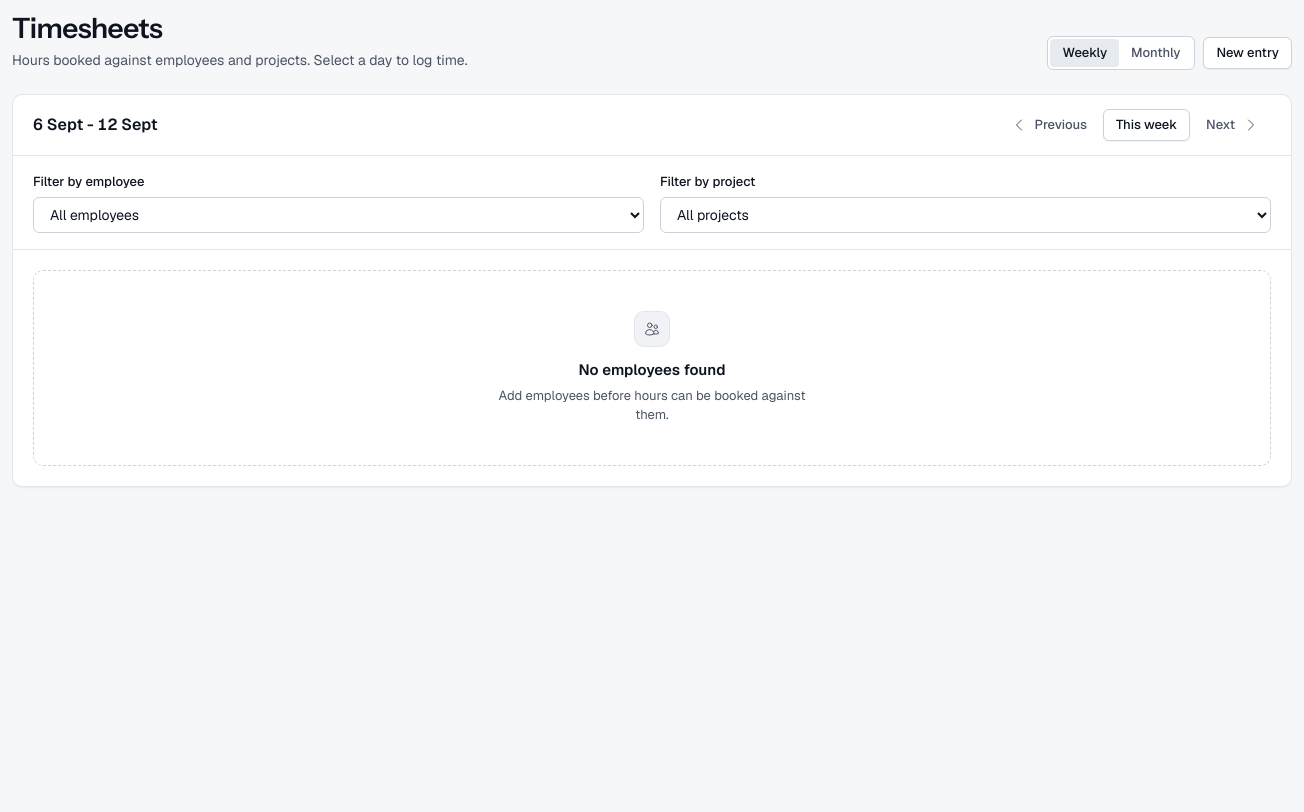
Test: Time/Timesheets Page › should show monthly summary with total hours and days worked
Click the button "Monthly": (1156,53) x1=1119 y1=39 x2=1192 y2=67
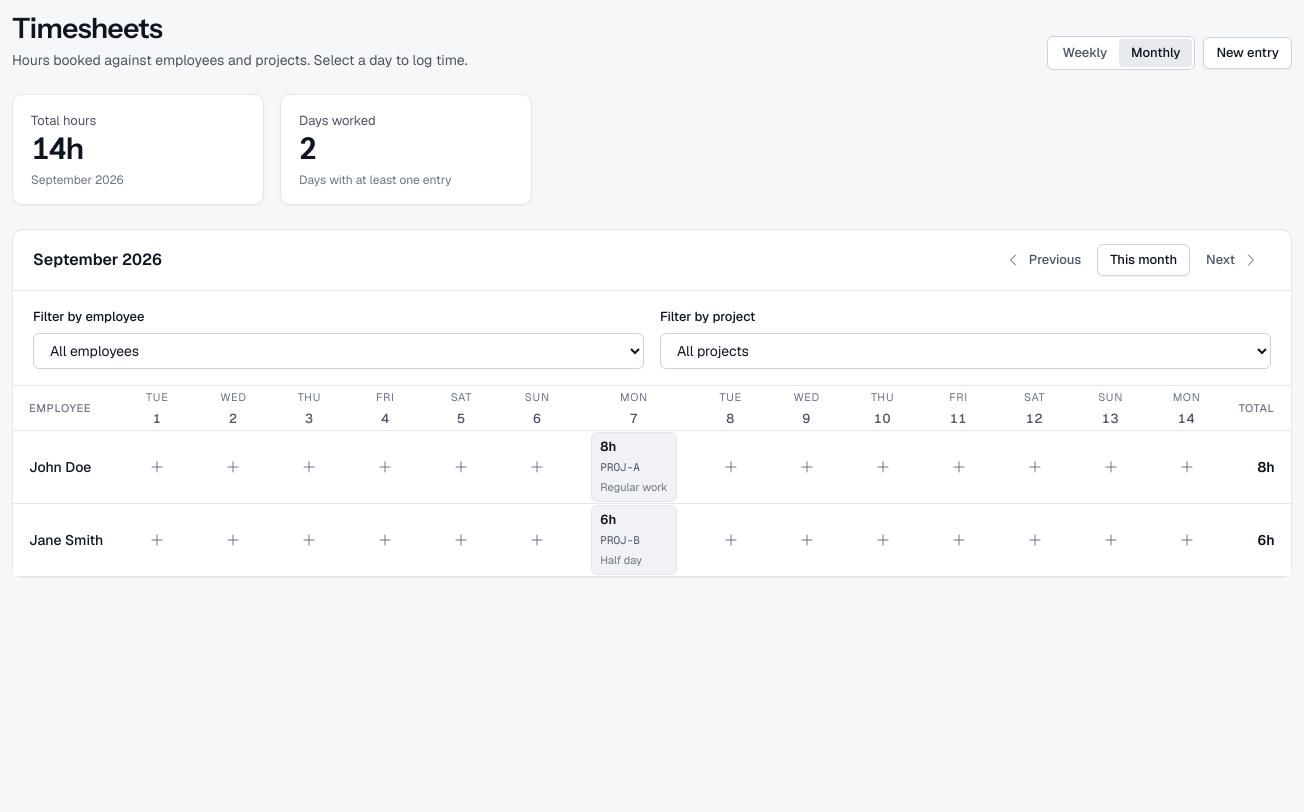
Expected: the text "Total hours" is shown, x1=31 y1=112 x2=96 y2=129
Expected: the text "Days worked" is shown, x1=299 y1=112 x2=376 y2=129
